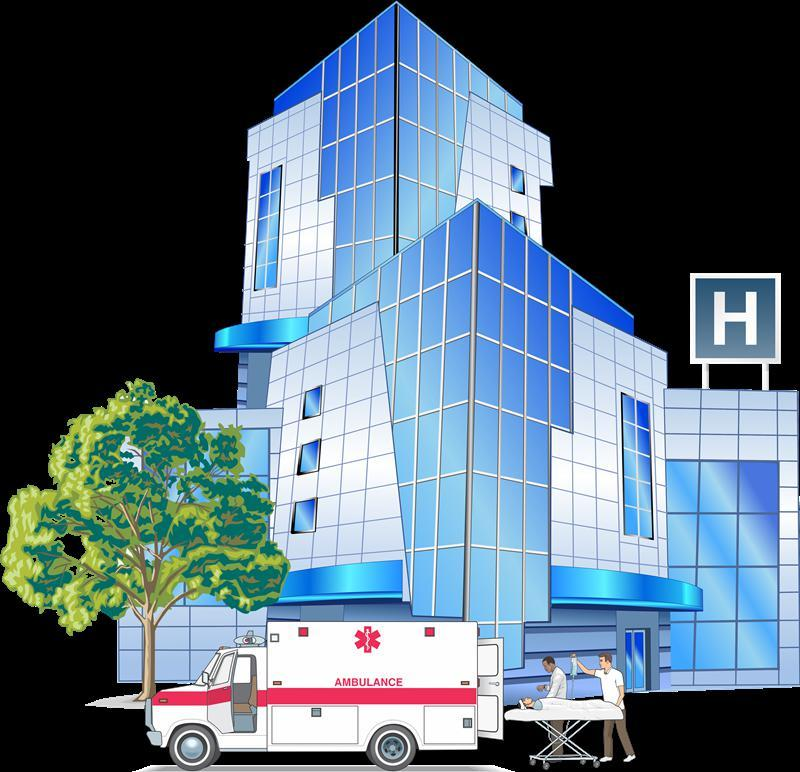car: (133, 600, 504, 772)
person: (578, 648, 639, 764), (536, 649, 567, 766)
